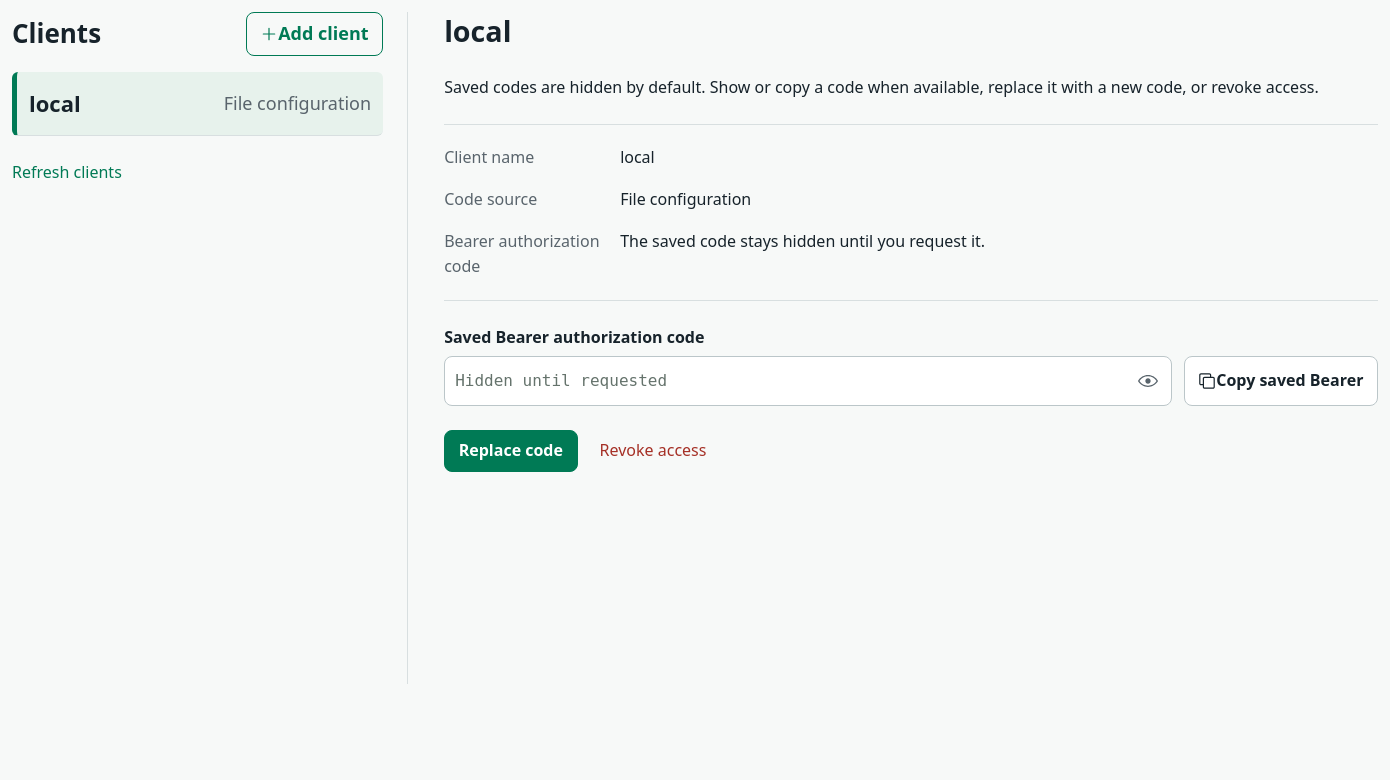
it: replaces an imported code without renaming the client or retrieving its old code
The image size is (1390, 780).
Click the button with aria-label "Replace code for local". click: (511, 451)
box: [444,430,578,472]
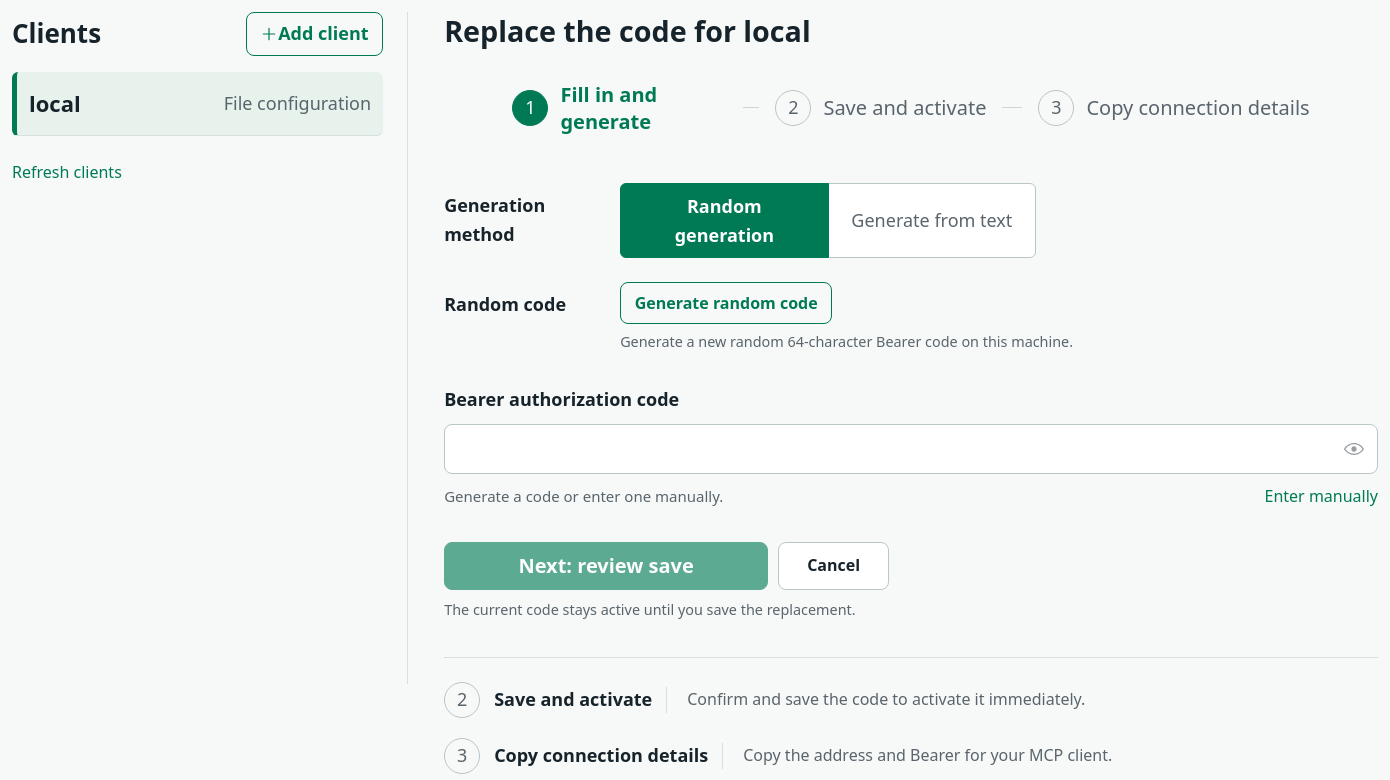
Click the button "Enter manually". click: (1321, 497)
box: [1264,484,1378,510]
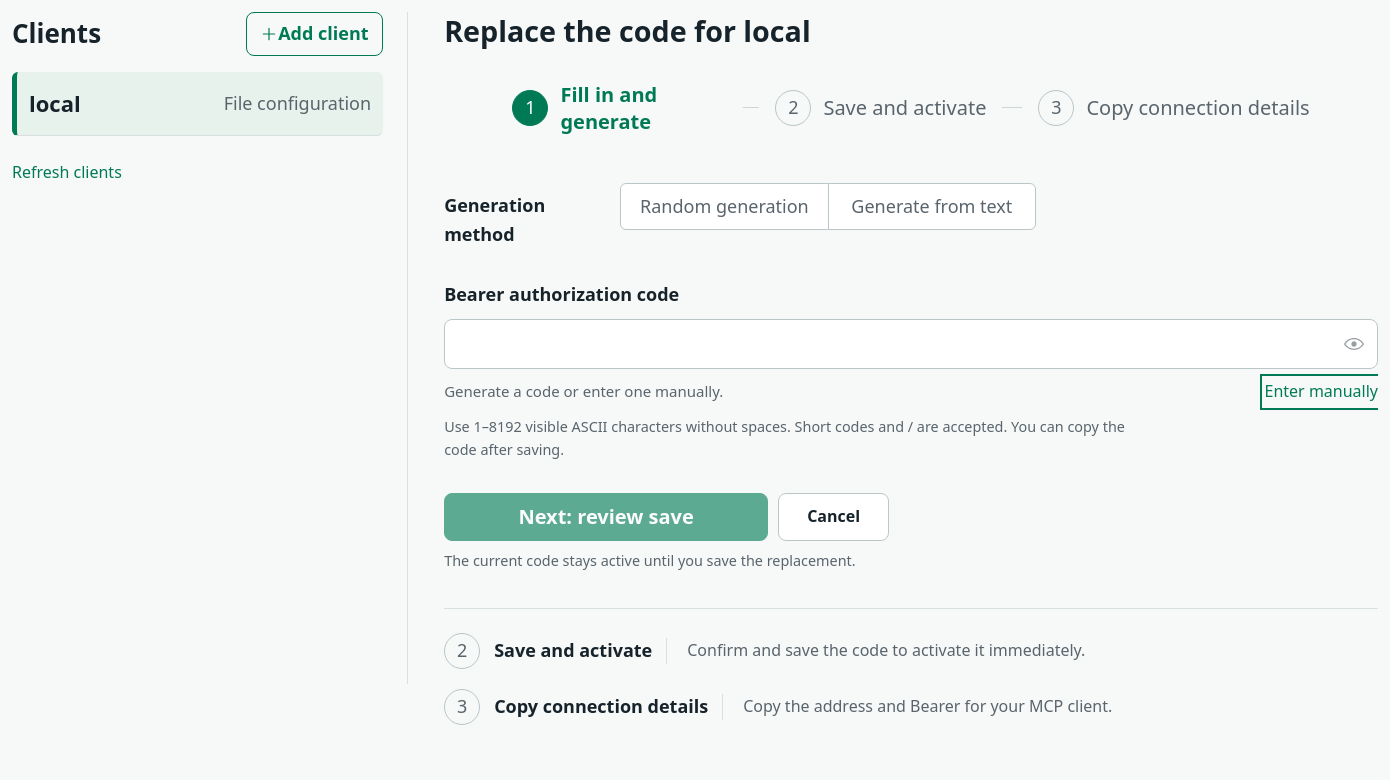
Type "x" into the password field labelled "Bearer authorization code". click: (911, 344)
box: [444,319,1378,369]
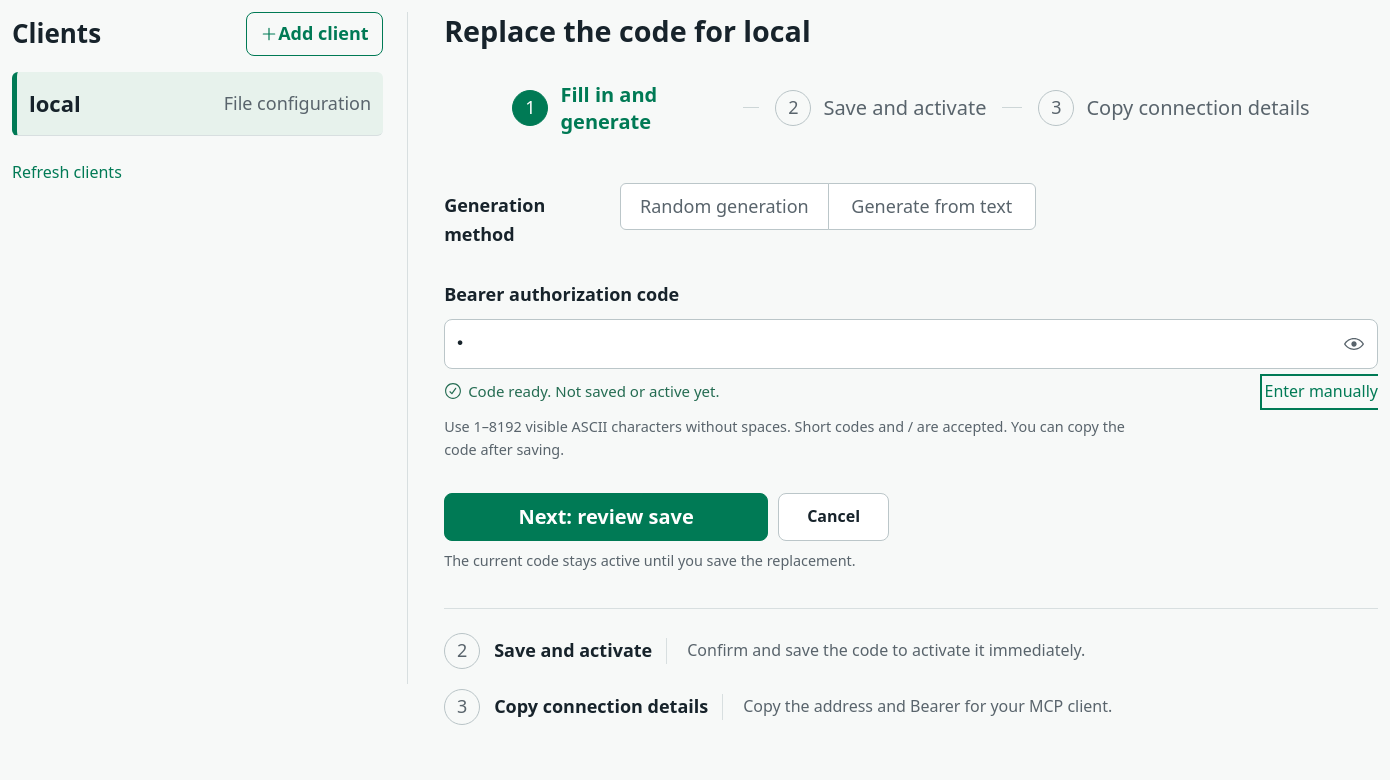
Expected: the text labelled "Client name" is not shown
Click the button "Next: review save". click: (606, 517)
box: [444,493,768,541]
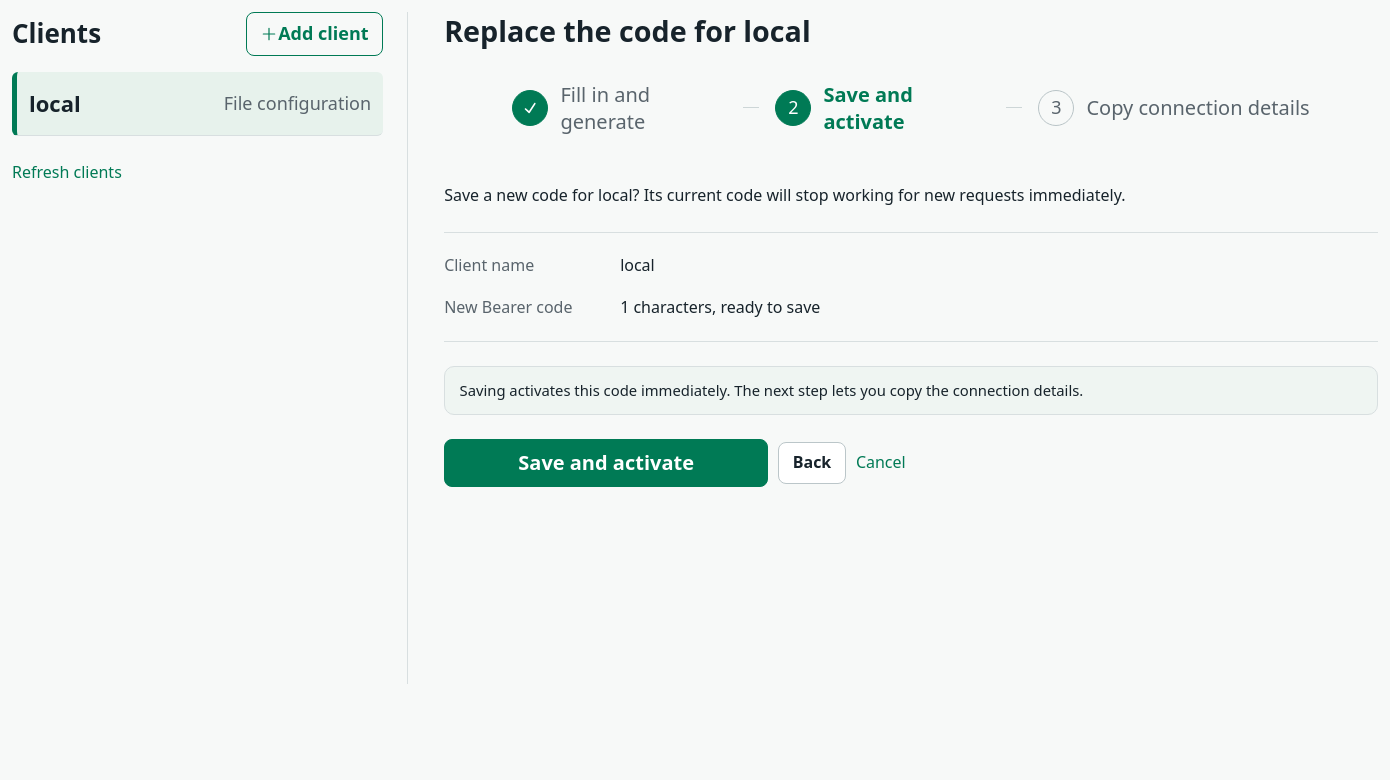
Click the button "Save and activate". click: (606, 463)
box: [444,439,768,487]
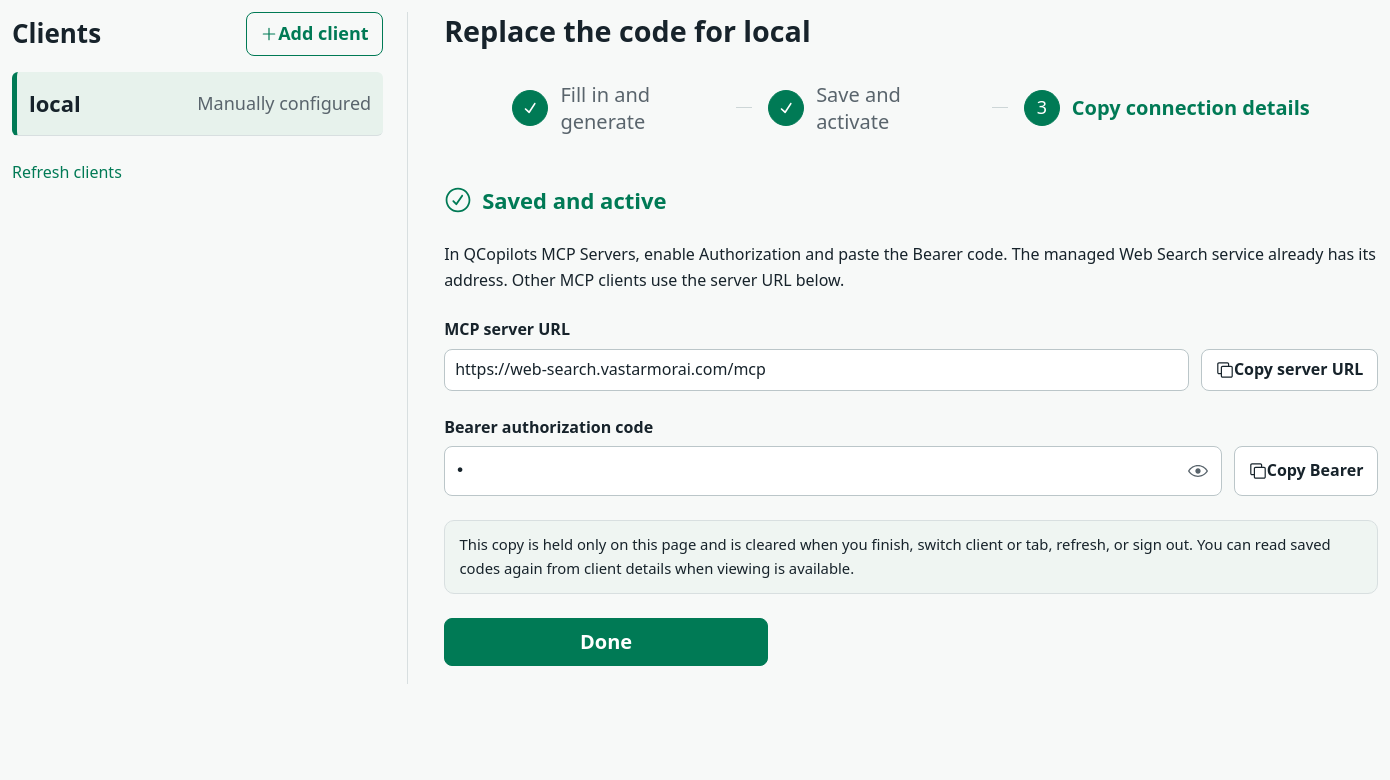
Expected: the button "Copy Bearer" is shown, [1234,446,1378,496]
